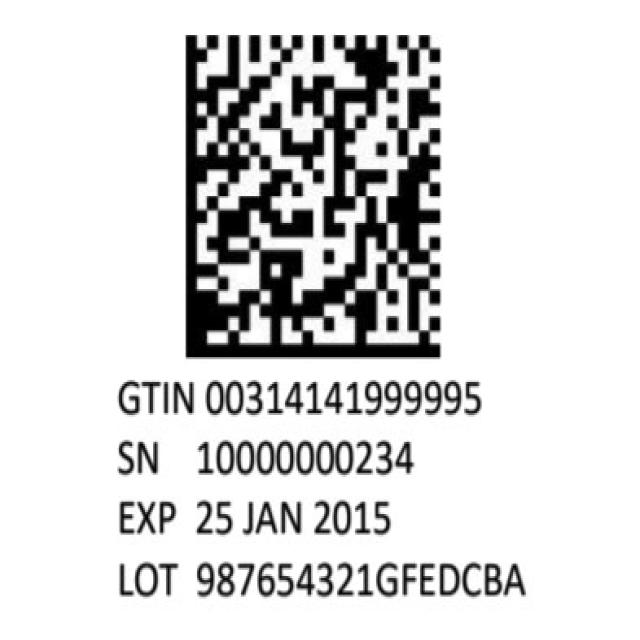datamatrix: (179, 19, 443, 364)
